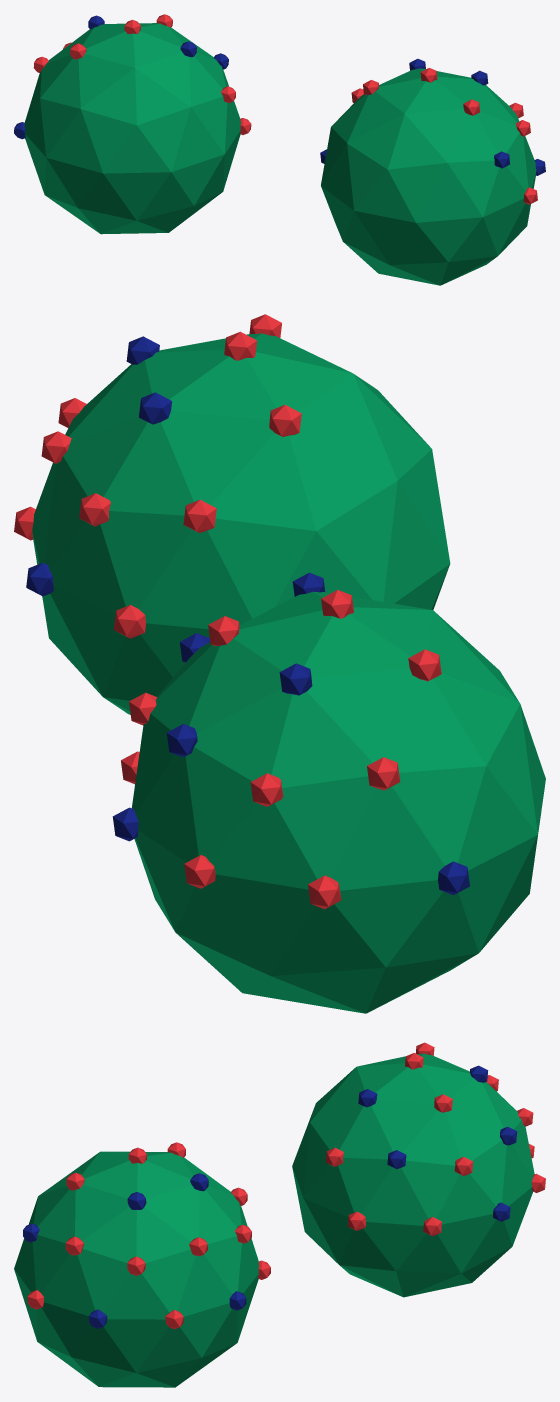
File: Berries.glb
3 views of the same model, one above another, from view 1: azimuth 30°, elevation 25°; view 2: azimuth 150°, elevation 25°; view 3: azimuth 270°, elevation 25° (orthographic). The views are drawn at different scales.
Parts seen in each view (by area): view 1: Icosphere.001, Icosphere.019; view 2: Icosphere.001, Icosphere.019, Icosphere.023, Icosphere.005, Icosphere.011, Icosphere.012, Icosphere.029, Icosphere.008, Icosphere.022, Icosphere.003, Icosphere.021, Icosphere.004; view 3: Icosphere.001, Icosphere.019.
Boxes of the visible parts, x1,y1,x2,y2 form: Icosphere.001: [24, 23, 240, 234]; Icosphere.019: [321, 68, 536, 285]; Icosphere.001: [132, 591, 545, 1013]; Icosphere.019: [32, 333, 450, 714]; Icosphere.023: [183, 499, 216, 532]; Icosphere.005: [367, 757, 400, 790]; Icosphere.011: [308, 875, 341, 909]; Icosphere.012: [250, 773, 283, 806]; Icosphere.029: [114, 605, 145, 638]; Icosphere.008: [438, 861, 469, 895]; Icosphere.022: [269, 405, 301, 436]; Icosphere.003: [279, 663, 312, 695]; Icosphere.021: [139, 392, 171, 424]; Icosphere.004: [408, 649, 441, 681]; Icosphere.001: [292, 1053, 534, 1297]; Icosphere.019: [14, 1151, 259, 1387].
Bounding box in the file's own units: 2 × 1.01 × 2.25.
Materials: 3 (1 with a texture image).
